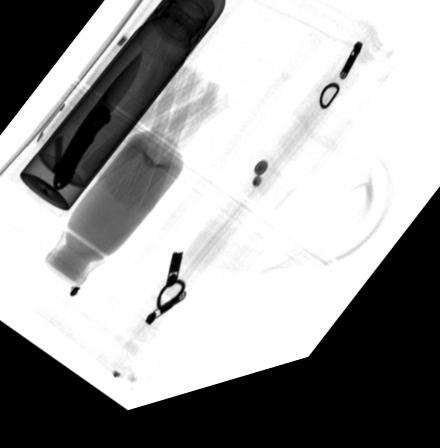Knife: (52, 56, 143, 194)
